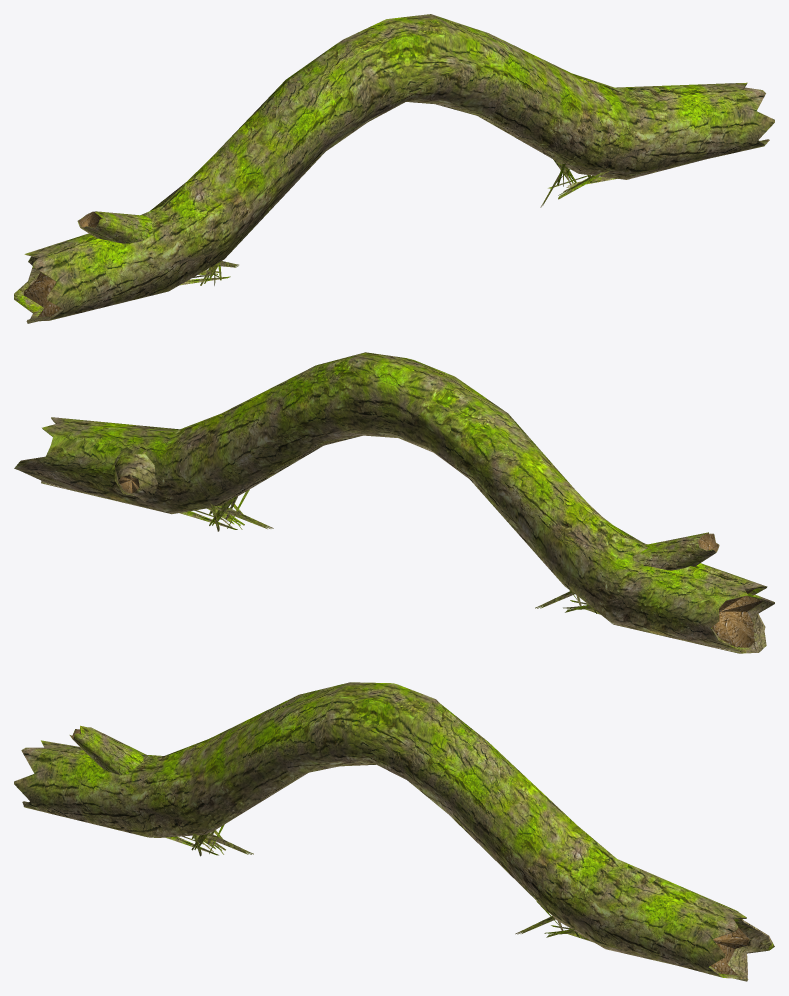
The model's file is sb_obj_ruins010_log03.fbx.
3 renders of one model, top to bottom at view 1: azimuth 30°, elevation 25°; view 2: azimuth 150°, elevation 25°; view 3: azimuth 330°, elevation 25°, orthographic. The views are drawn at different scales.
Parts seen in each view (by area): view 1: sb_obj_ruins010_log03; view 2: sb_obj_ruins010_log03; view 3: sb_obj_ruins010_log03.
Part boxes in pixels (x1,y1,x2,y2): sb_obj_ruins010_log03: [14, 14, 774, 323]; sb_obj_ruins010_log03: [14, 352, 774, 653]; sb_obj_ruins010_log03: [14, 682, 774, 981].
Bounding box in the file's own units: 8.49 × 2.33 × 1.01.
